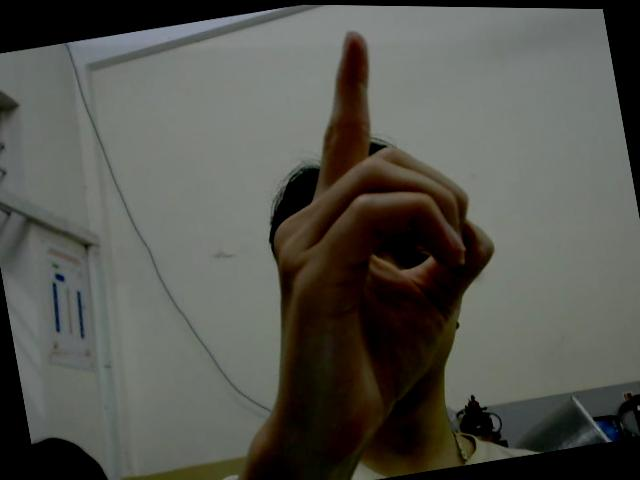D: (228, 8, 522, 445)
